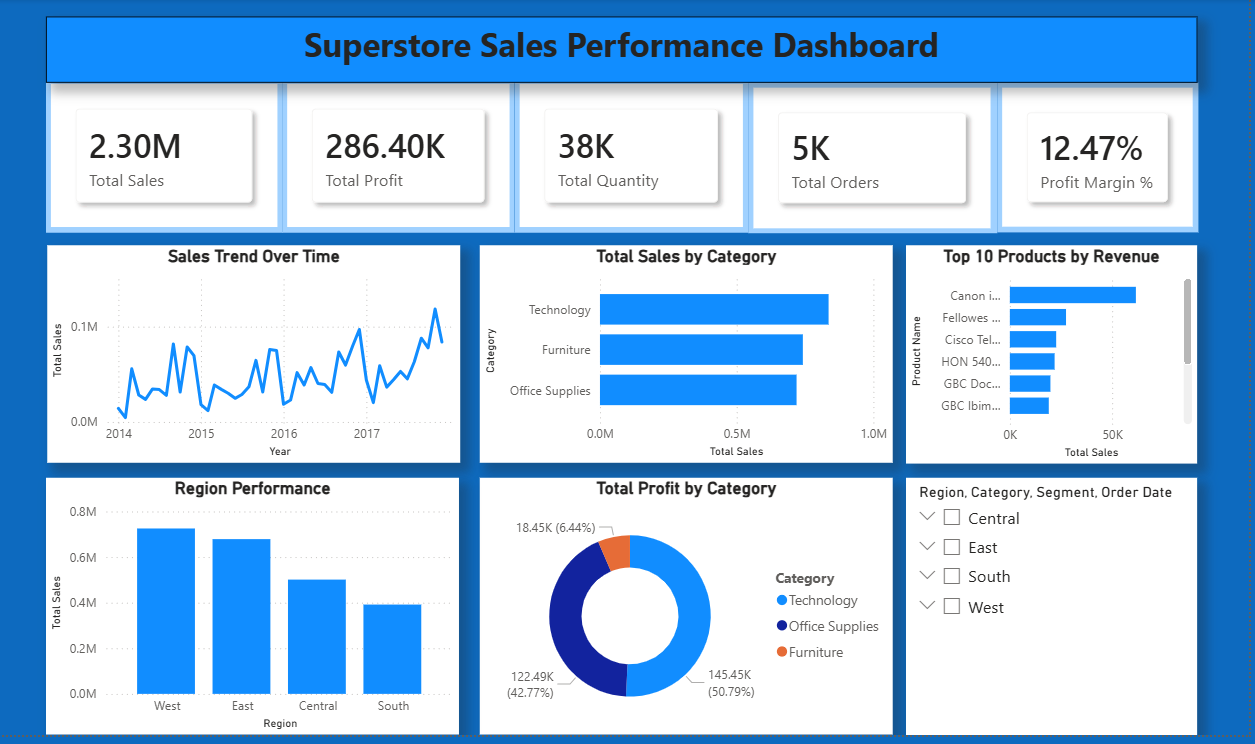

This screenshot's page, from the dashboard's own definition file:
{"tool":"powerbi","page":{"name":"Page 1","canvas":[1280,720],"ordinal":0},"visuals":[{"type":"cardVisual","fields":{"Data":["Sample - Superstore.Total Sales"]},"box":[334.3,78.6,227.1,150],"z":0},{"type":"cardVisual","fields":{"Data":["Sample - Superstore.Total Sales"]},"box":[102.7,78.3,231.1,150.4],"z":1000},{"type":"cardVisual","fields":{"Data":["Sample - Superstore.Total Quantity"]},"box":[561.4,78.6,228.6,150],"z":2000},{"type":"cardVisual","fields":{"Data":["Sample - Superstore.Total Orders"]},"box":[790,81.4,242.9,147.1],"z":3000},{"type":"cardVisual","fields":{"Data":["Sample - Superstore.Profit Margin %"]},"box":[1033.3,81.9,196.9,146.7],"z":4000},{"type":"lineChart","title":"Sales Trend Over Time","fields":{"Y":["Sample - Superstore.Total Sales"],"Category":["Sample - Superstore.Order Date.Variation.Date Hierarchy.Year","Sample - Superstore.Order Date.Variation.Date Hierarchy.Month"]},"box":[104.3,241.4,404.3,212.9],"z":5000},{"type":"clusteredBarChart","fields":{"Category":["Sample - Superstore.Category"],"Y":["Sample - Superstore.Total Sales"]},"box":[527.1,241.4,404.3,212.9],"z":6000},{"type":"donutChart","fields":{"Category":["Sample - Superstore.Category"],"Y":["Sample - Superstore.Total Profit"]},"box":[527.1,468.6,404.3,251.4],"z":7000},{"type":"clusteredColumnChart","title":"Region Performance","fields":{"Y":["Sample - Superstore.Total Sales"],"Category":["Sample - Superstore.Region"]},"box":[102.9,468.6,404.3,251.4],"z":8000},{"type":"barChart","title":"Top 10 Products by Revenue","fields":{"Y":["Sample - Superstore.Total Sales"],"Category":["Sample - Superstore.Product Name"]},"box":[944,240.9,284.9,214],"z":9000},{"type":"slicer","fields":{"Values":["Sample - Superstore.Region","Sample - Superstore.Category","Sample - Superstore.Segment","Sample - Superstore.Order Date"]},"box":[944,468.3,284.9,251.9],"z":10000},{"type":"textbox","box":[102.7,17.1,1126.2,64.8],"z":11000}]}

Visuals, with their boxes on the page's 1280x720 design canvas (x1, y1, x2, y2). These are canvas units, not pixel positions in the 1255x744 screenshot, which may show the page scaled, cropped or inside an application window:
cardVisual - Sample - Superstore.Total Sales: {"x1": 334, "y1": 79, "x2": 561, "y2": 229}
cardVisual - Sample - Superstore.Total Sales: {"x1": 103, "y1": 78, "x2": 334, "y2": 229}
cardVisual - Sample - Superstore.Total Quantity: {"x1": 561, "y1": 79, "x2": 790, "y2": 229}
cardVisual - Sample - Superstore.Total Orders: {"x1": 790, "y1": 81, "x2": 1033, "y2": 228}
cardVisual - Sample - Superstore.Profit Margin %: {"x1": 1033, "y1": 82, "x2": 1230, "y2": 229}
"Sales Trend Over Time" lineChart: {"x1": 104, "y1": 241, "x2": 509, "y2": 454}
clusteredBarChart - Sample - Superstore.Category x Sample - Superstore.Total Sales: {"x1": 527, "y1": 241, "x2": 931, "y2": 454}
donutChart - Sample - Superstore.Category x Sample - Superstore.Total Profit: {"x1": 527, "y1": 469, "x2": 931, "y2": 720}
"Region Performance" clusteredColumnChart: {"x1": 103, "y1": 469, "x2": 507, "y2": 720}
"Top 10 Products by Revenue" barChart: {"x1": 944, "y1": 241, "x2": 1229, "y2": 455}
slicer - Sample - Superstore.Region x Sample - Superstore.Category: {"x1": 944, "y1": 468, "x2": 1229, "y2": 720}
textbox: {"x1": 103, "y1": 17, "x2": 1229, "y2": 82}
